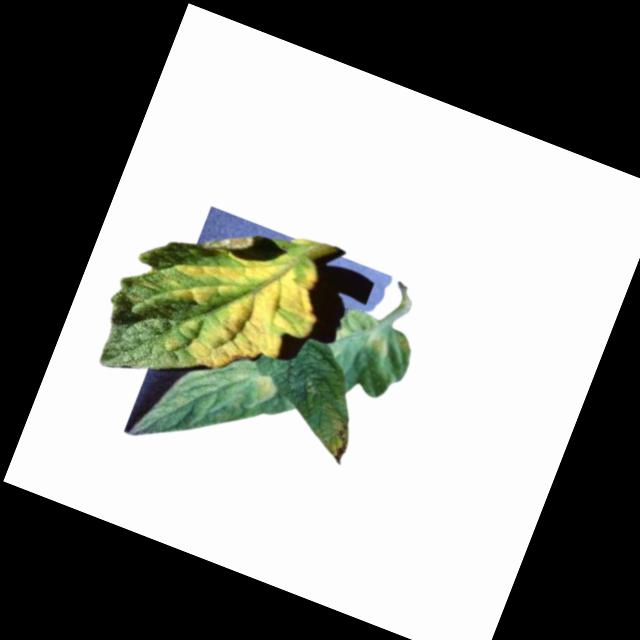Leaf_Mold: (115, 202, 336, 397), (310, 407, 359, 466), (227, 364, 280, 405)
